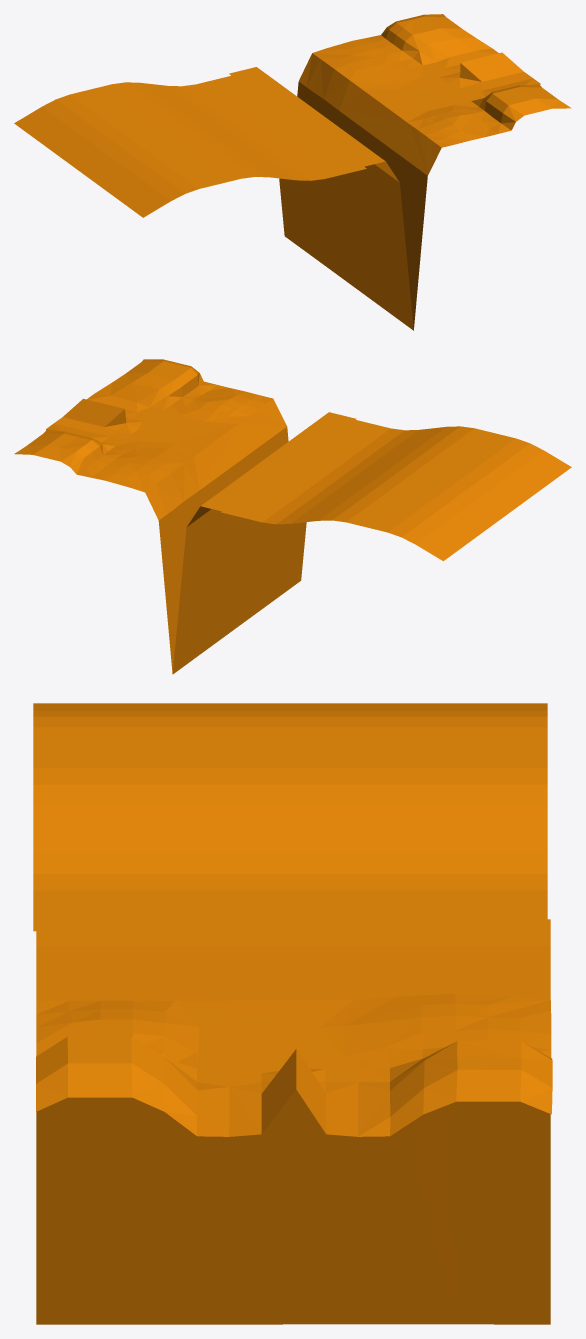
Rendered from startblend.fbx.
The picture shows the model from 3 angles, top to bottom: view 1: azimuth 30°, elevation 25°; view 2: azimuth 150°, elevation 25°; view 3: azimuth 270°, elevation 25°; orthographic projection. The views are drawn at different scales.
Visible parts, largest first — view 1: Plane; view 2: Plane; view 3: Plane.
Part boxes in pixels (x1=…): Plane: x1=14, y1=14, x2=571, y2=330; Plane: x1=14, y1=359, x2=571, y2=674; Plane: x1=33, y1=703, x2=552, y2=1324.
Size of the model in its own units: 393 by 166 by 202.
